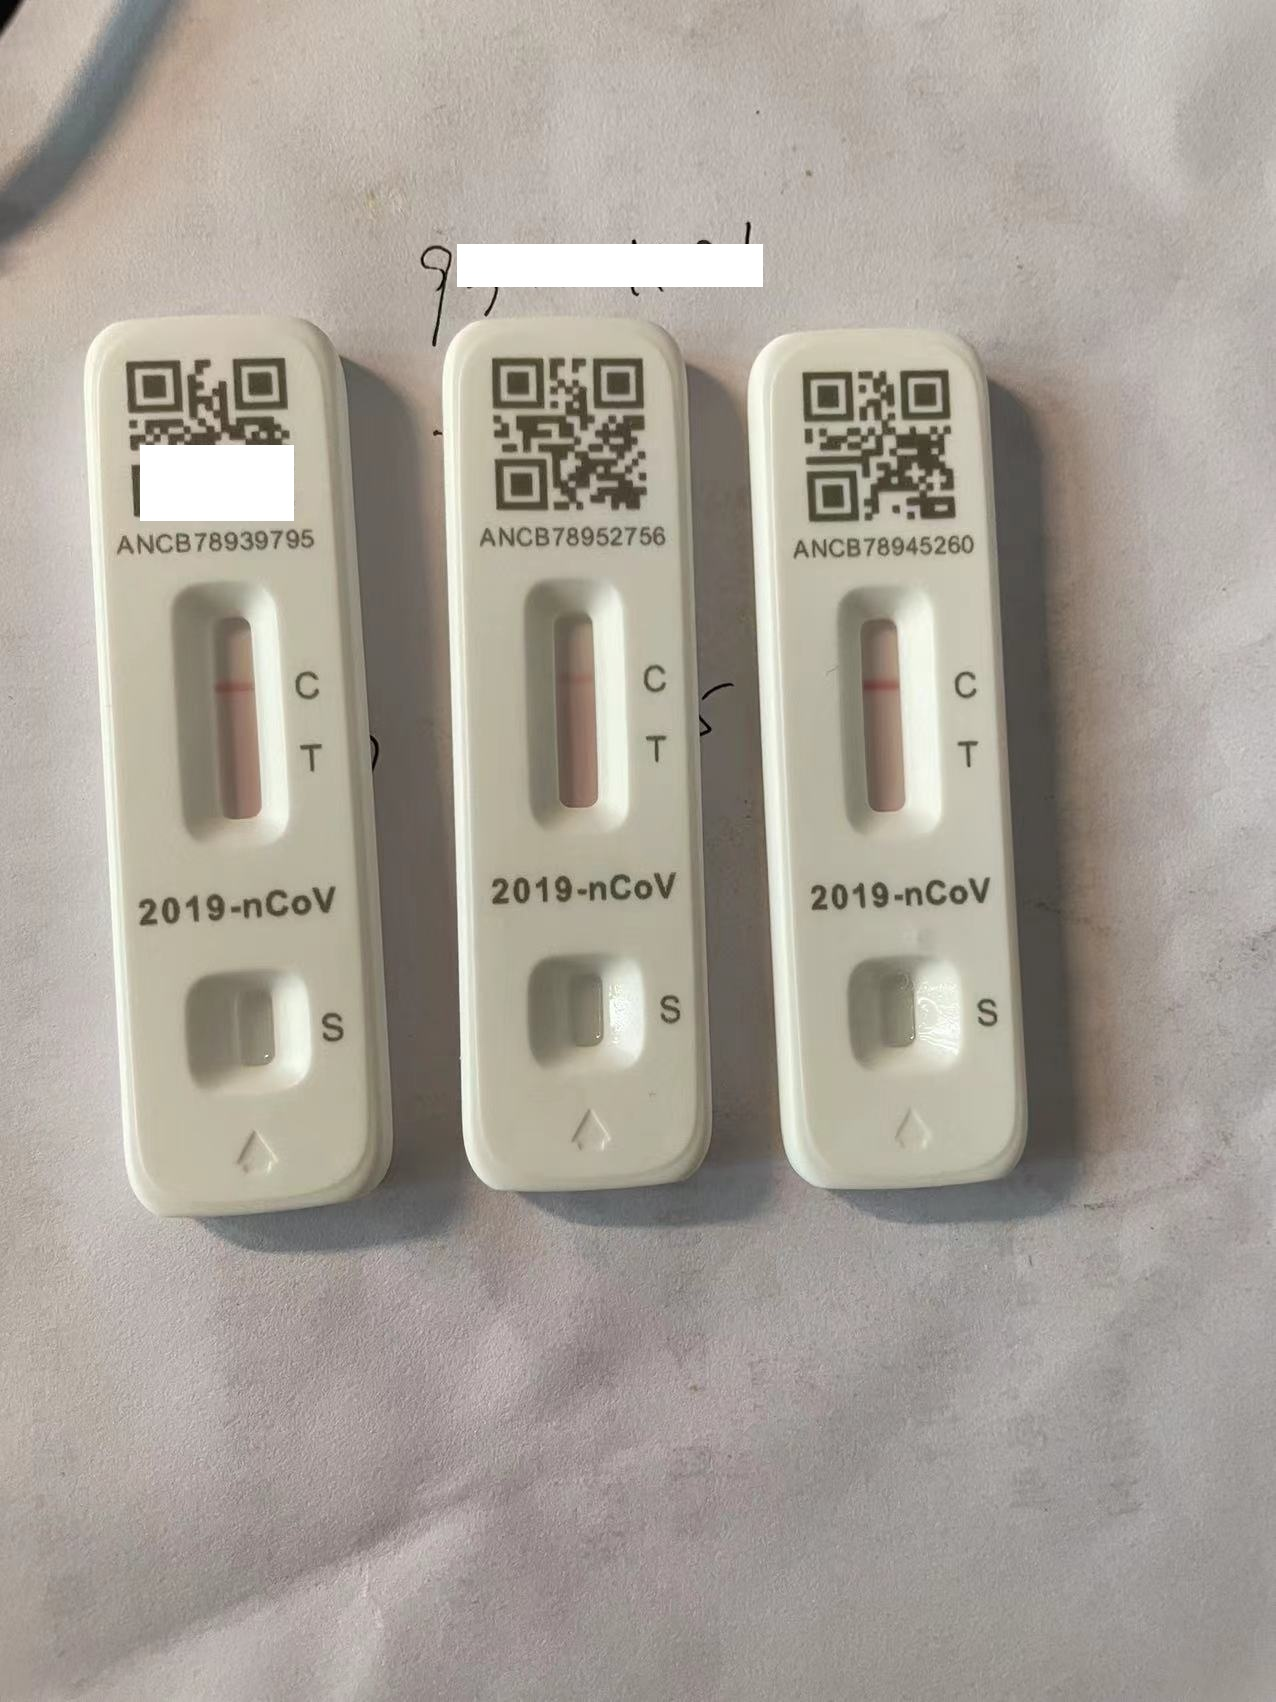negative: (173, 587, 284, 846), (524, 583, 627, 834), (839, 590, 936, 836)
